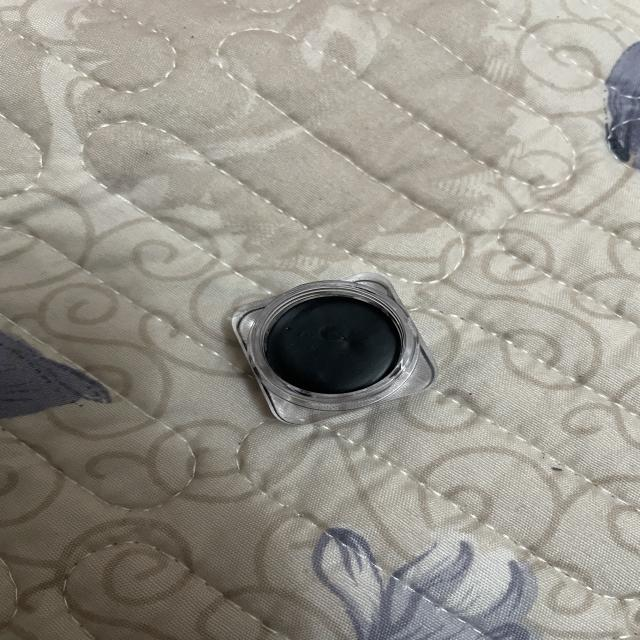eye shade: (217, 271, 453, 434)
